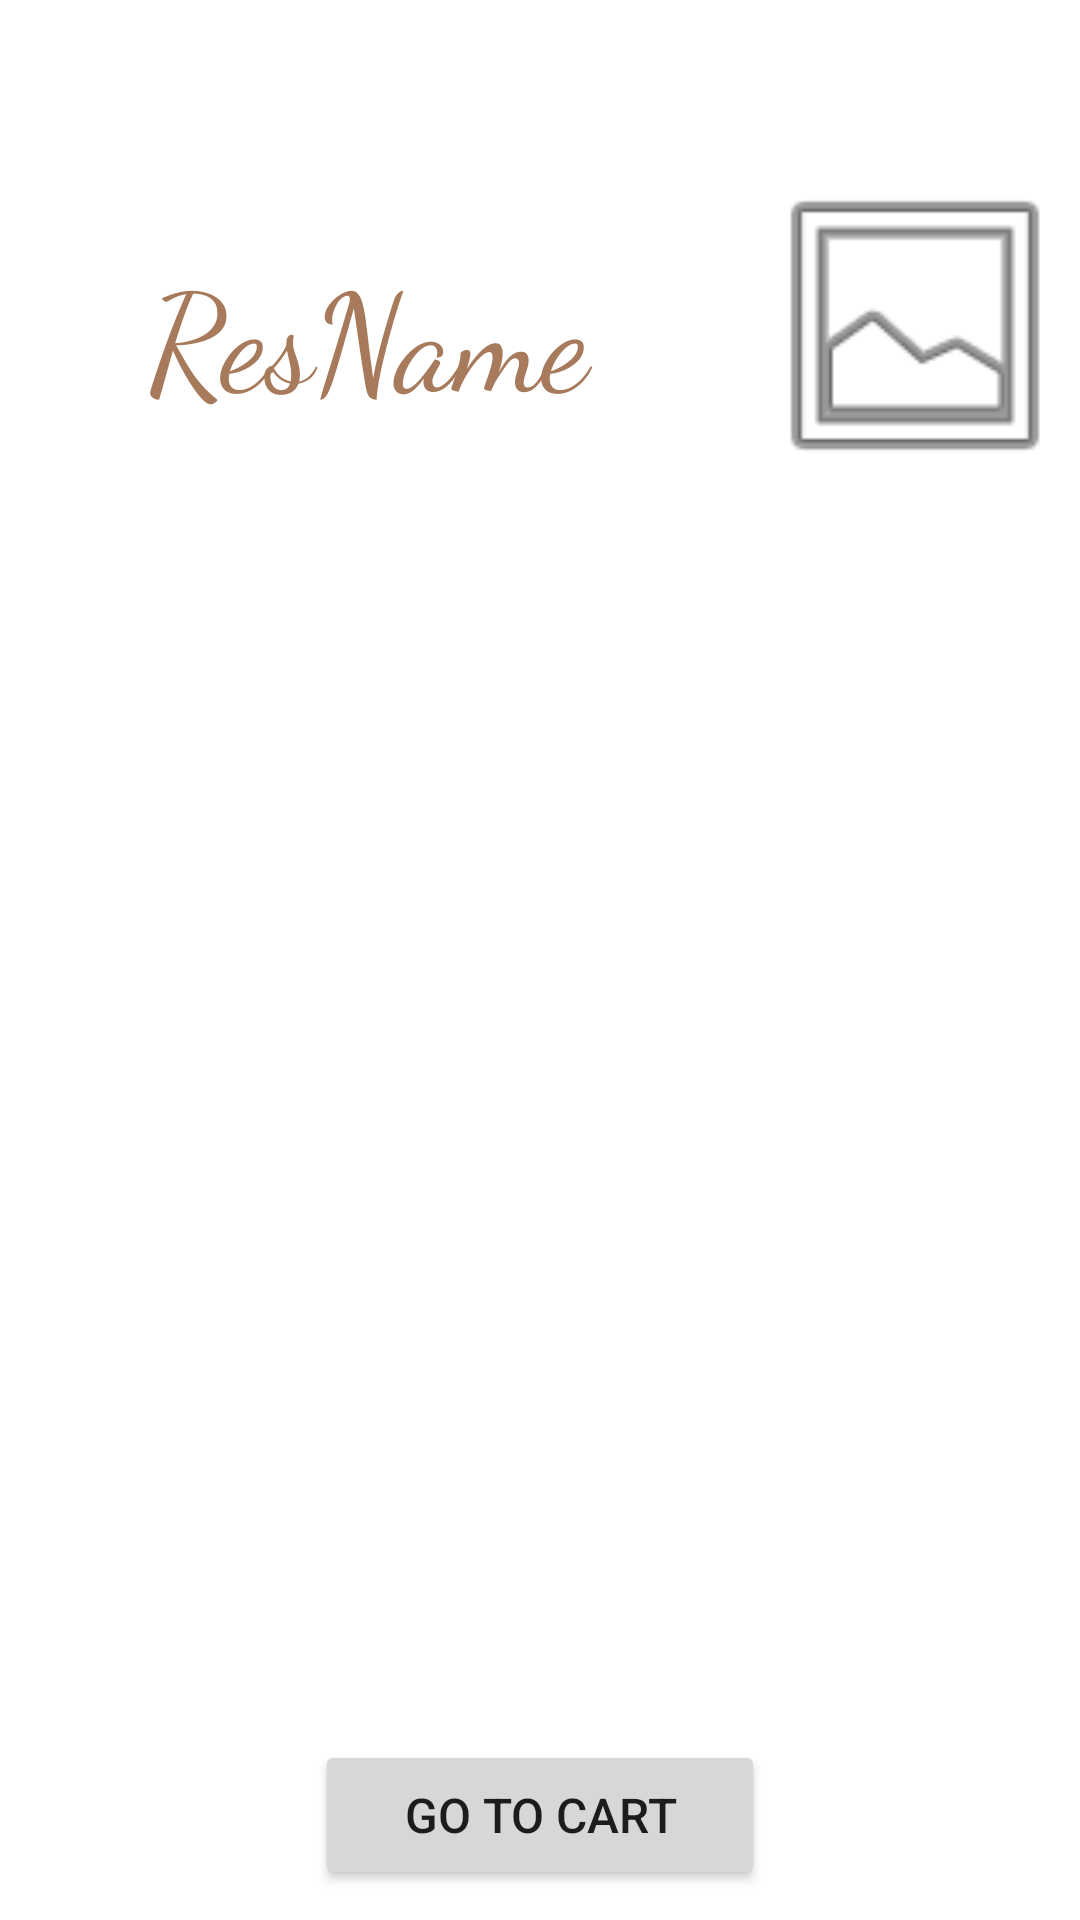

Icons on this 1080×1920 Android screen, each with the point to tap as (x,y):
gallery: (915,325)
